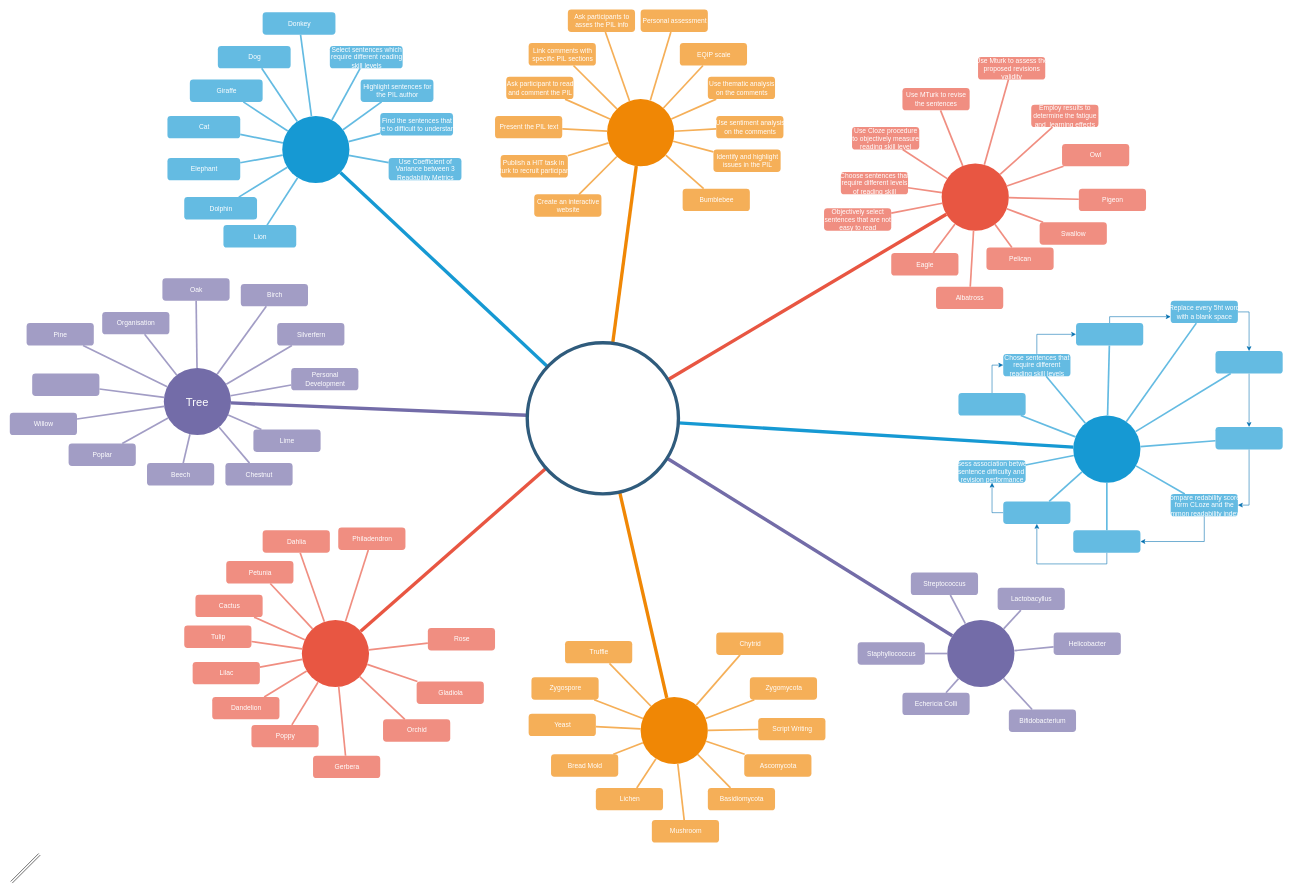
The diagram is 1300 pixels wide and 893 high, and some of its shapes have lost their labels. Each missing label, with the box of its shape:
Acacia: (32, 373, 99, 396)
Apply the CLoxe procedure to the sentences: (1076, 323, 1143, 345)
Ask participants to complete the sentences: (1215, 351, 1282, 373)
Assess association between participants' reading skill and revision performance: (1003, 501, 1070, 524)
Bacteria: (947, 620, 1014, 687)
Flower: (302, 620, 369, 687)
Fungi: (640, 697, 708, 764)
Objectively assess the sentence difficulty and the participant reading skill: (1215, 427, 1282, 449)
Select sentences that are difficult to read by general audiences: (958, 393, 1025, 415)
Using MTurk to assess participant reading skill: (1073, 415, 1140, 482)
Using Mturk to collect Public Feedback: (607, 99, 674, 166)
Using Mturk to revise PIL sentnences: (941, 163, 1009, 230)
Using Text Analytics to Identify Issues: (282, 116, 349, 183)
Validate the proposed revisions with MTurk Crowd-sourcing: (1073, 530, 1140, 552)
Web for Public Involvement in Revising Information Leaflets: (525, 341, 680, 495)
